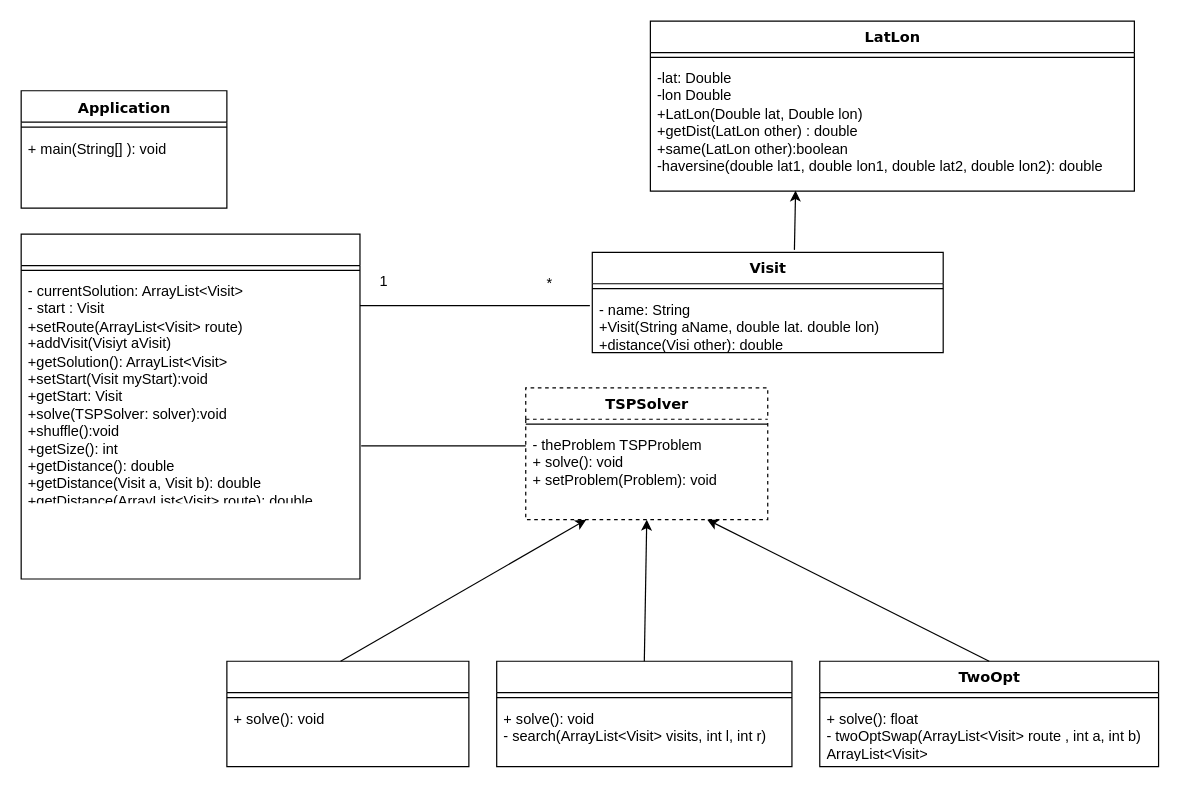
The diagram is 1180 pixels wide and 788 high, and some of its shapes have lost their labels. Here are the shapes that lost their labels. From the top down, the box of each, then its label:
(20, 233, 360, 579): TSPProblem
(226, 660, 469, 767): NearestNeighbour
(495, 660, 792, 767): Exhaustive
